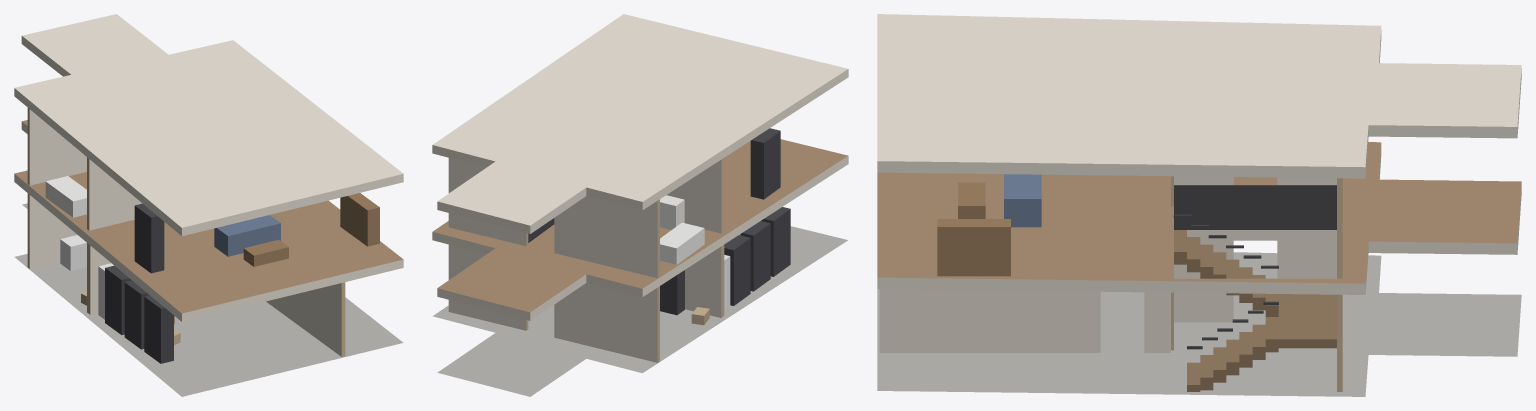
The model's file is interior.glb.
3 renders of one model, left to right at view 1: azimuth 30°, elevation 25°; view 2: azimuth 150°, elevation 25°; view 3: azimuth 270°, elevation 25°, orthographic. The views are drawn at different scales.
Visible parts, largest first — view 1: slabs, partitions, coarse-s1, coarse-s0; view 2: slabs, partitions, coarse-s0, coarse-s1; view 3: slabs, partitions, stair, coarse-s1.
Boxes of the visible parts, x1=… form: slabs: x1=14, y1=14, x2=403, y2=396; partitions: x1=27, y1=108, x2=345, y2=356; coarse-s1: x1=45, y1=176, x2=379, y2=273; coarse-s0: x1=60, y1=235, x2=180, y2=363; slabs: x1=432, y1=14, x2=848, y2=396; partitions: x1=448, y1=158, x2=724, y2=362; coarse-s0: x1=660, y1=207, x2=790, y2=325; coarse-s1: x1=660, y1=128, x2=780, y2=264; slabs: x1=877, y1=14, x2=1521, y2=396; partitions: x1=879, y1=176, x2=1342, y2=391; stair: x1=1173, y1=185, x2=1336, y2=391; coarse-s1: x1=937, y1=174, x2=1041, y2=276.
Size of the model in its own units: 7.48 by 5.25 by 13.29.
